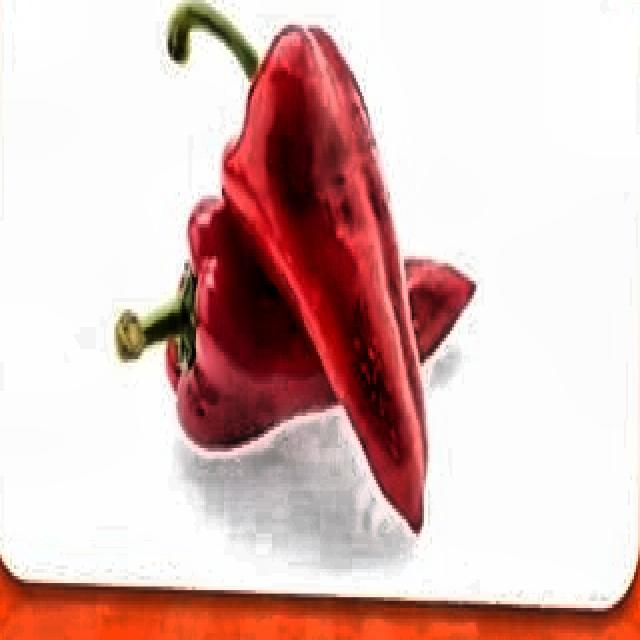Vegetable: (100, 36, 492, 605)
